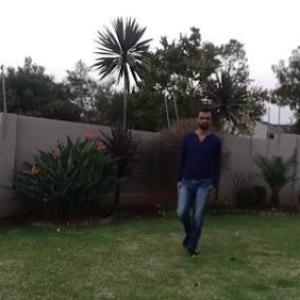follow: (174, 111, 216, 250)
